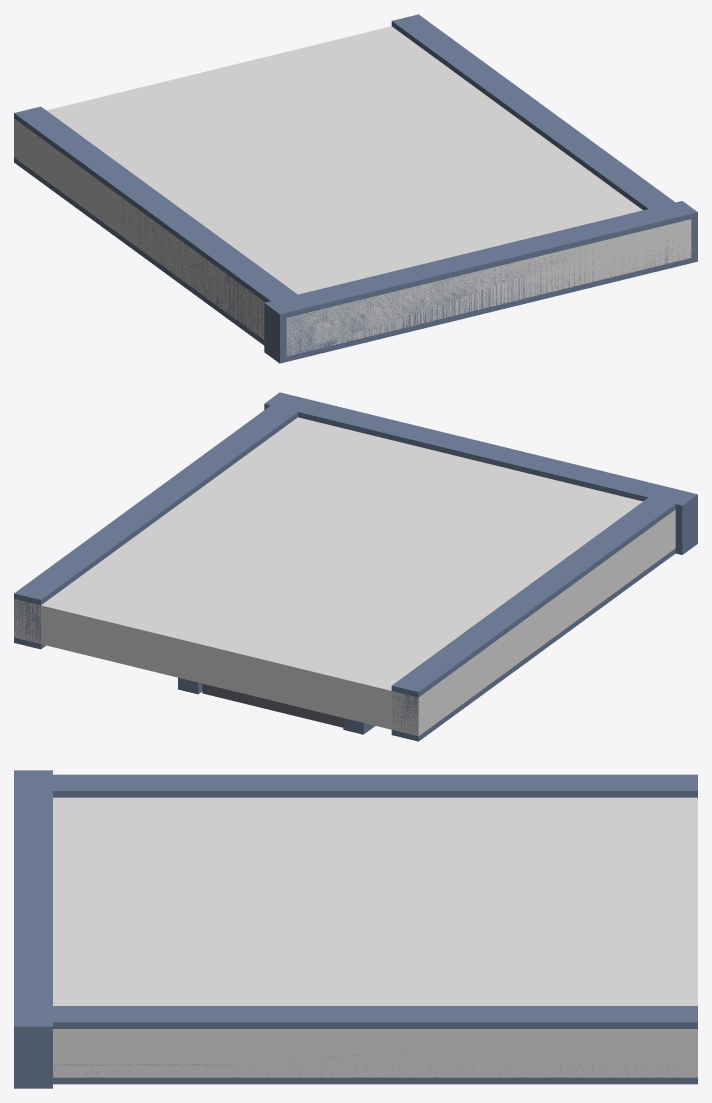
The model's file is 04_wall_door.glb.
3 views of the same model, one above another, from view 1: azimuth 30°, elevation 25°; view 2: azimuth 150°, elevation 25°; view 3: azimuth 270°, elevation 25° (orthographic). The views are drawn at different scales.
Parts seen in each view (by area): view 1: part_1, part_10, part_11, part_12; view 2: part_1, part_11, part_12, part_10, part_2; view 3: part_1, part_12, part_11, part_10.
Boxes of the visible parts, box(x1,y1,x2,y2) form: part_1: box(14, 26, 691, 356); part_10: box(264, 201, 697, 363); part_11: box(14, 106, 313, 360); part_12: box(391, 14, 688, 269); part_1: box(14, 417, 675, 736); part_11: box(391, 486, 690, 741); part_12: box(14, 394, 312, 649); part_10: box(264, 392, 697, 554); part_2: box(202, 683, 343, 727); part_1: box(53, 797, 697, 1077); part_12: box(14, 1006, 697, 1084); part_11: box(14, 774, 697, 797); part_10: box(14, 770, 52, 1088).
Bounding box in the file's own units: 2.48 × 0.38 × 2.8.
